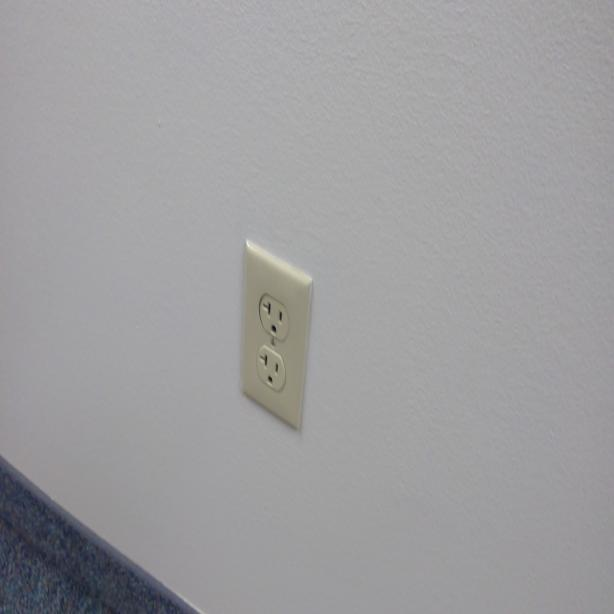typeb: (258, 348, 286, 396), (259, 297, 290, 339)
